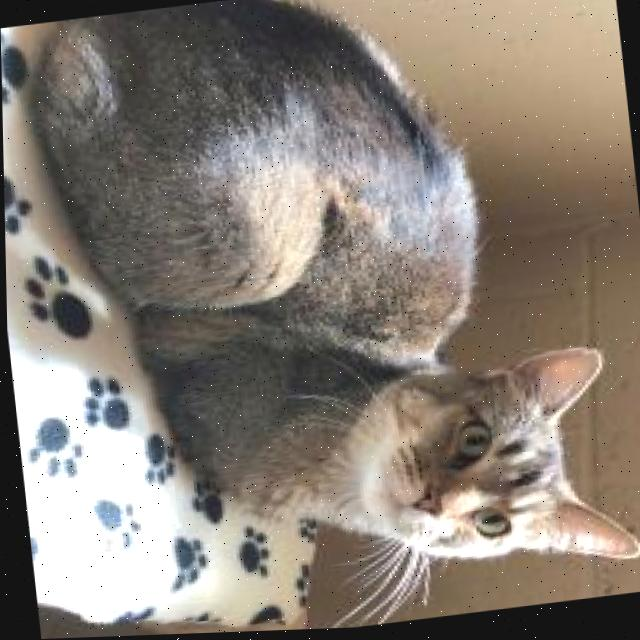Abyssinian: (24, 0, 640, 635)
